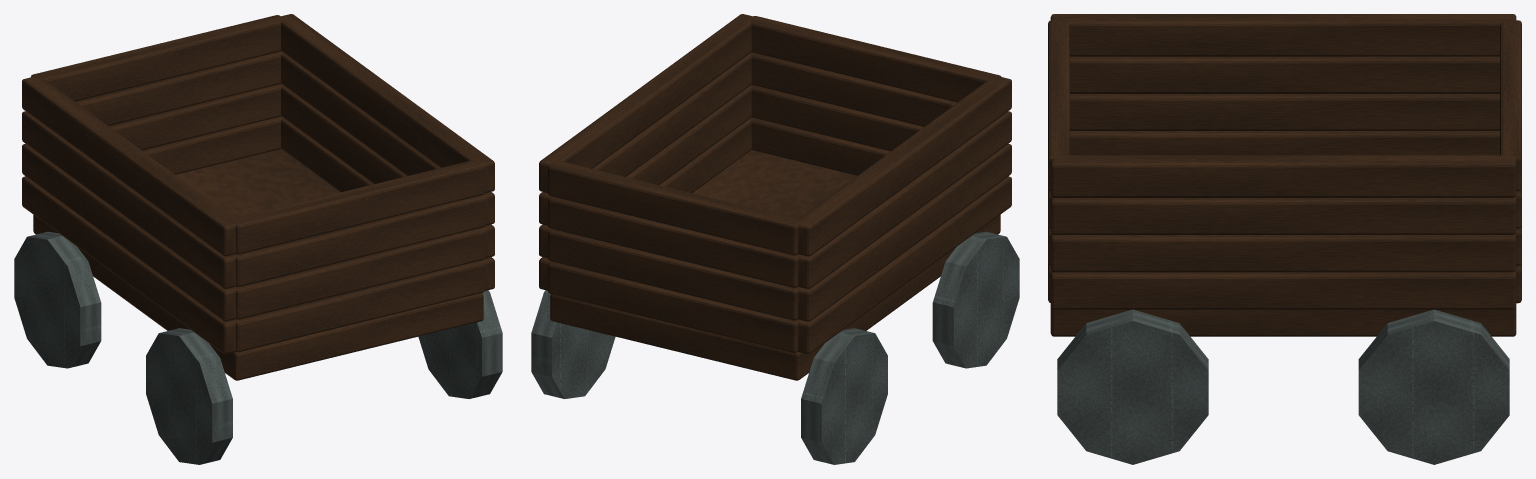
The model's file is cart.glb.
3 renders of one model, left to right at view 1: azimuth 30°, elevation 25°; view 2: azimuth 150°, elevation 25°; view 3: azimuth 270°, elevation 25°, orthographic. The views are drawn at different scales.
Visible parts, largest first — view 1: Cart floor.001, Cart wheel.004; view 2: Cart floor.001, Cart wheel.004; view 3: Cart floor.001, Cart wheel.004.
Part boxes in pixels (box(x1,y1,x2,y2)): Cart floor.001: box(22, 14, 494, 380); Cart wheel.004: box(14, 231, 502, 464); Cart floor.001: box(539, 14, 1011, 380); Cart wheel.004: box(531, 231, 1019, 464); Cart floor.001: box(1048, 14, 1521, 336); Cart wheel.004: box(1057, 309, 1509, 464).
Bounding box in the file's own units: 1.4 × 1.19 × 1.73.
2 materials, 2 textured.
